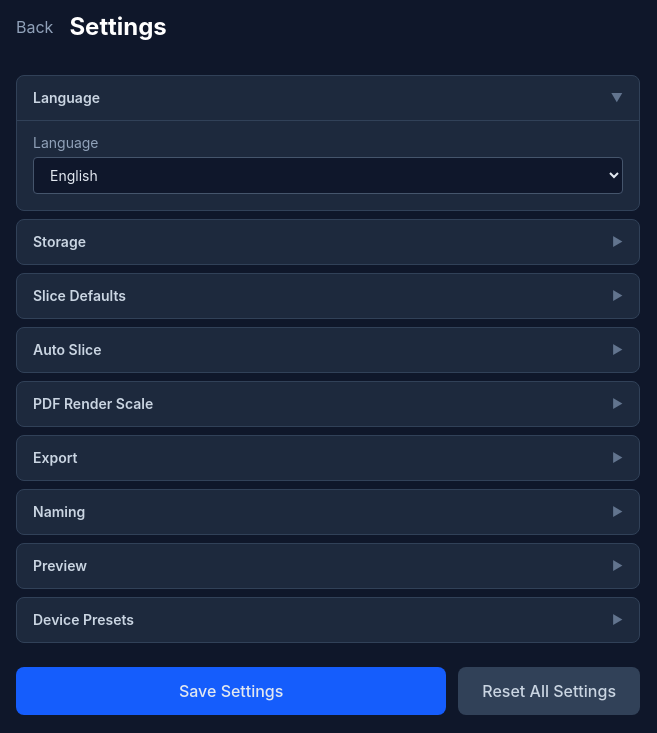
SettingsPage › loads and displays current baseDir
Click the button "Storage ▶" at (59, 242), box [17,220,639,264]
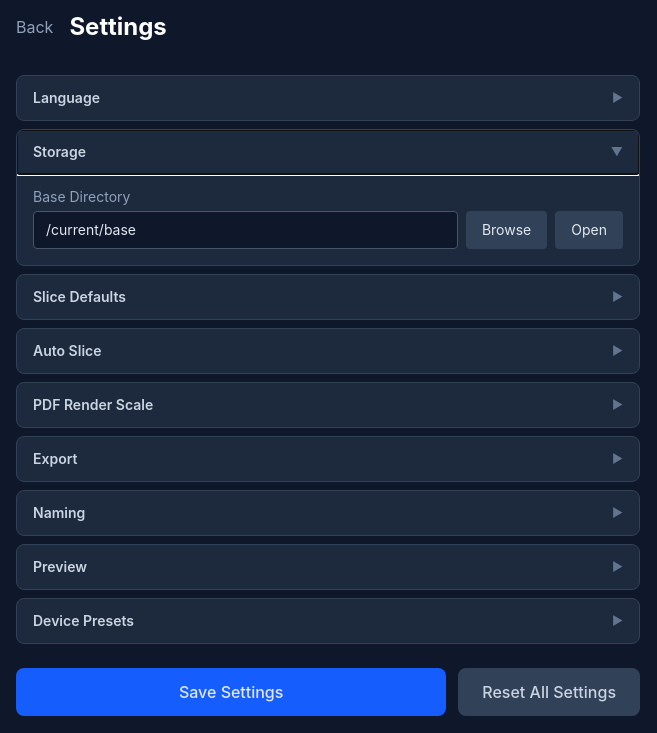
Expected: the field showing "/current/base" is shown, [33,211,458,249]
